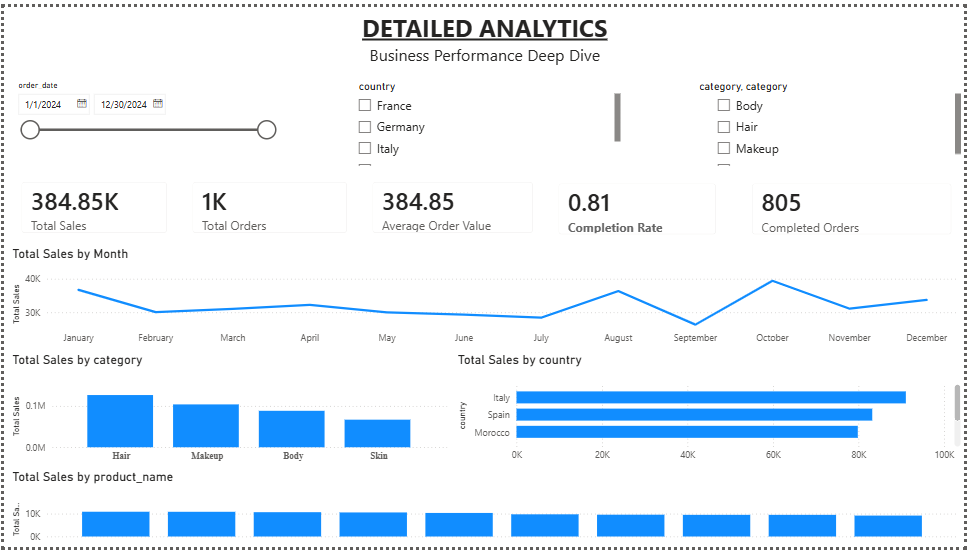

The dashboard page shown, as its layout file describes it:
{"tool":"powerbi","page":{"name":"Dtailed analytics","canvas":[1280,720],"ordinal":1},"visuals":[{"type":"textbox","box":[6,0,1270,92],"z":0},{"type":"slicer","fields":{"Values":["public orders.order_date"]},"box":[6.7,91.7,365,125],"z":1000},{"type":"slicer","fields":{"Values":["public customers.country"]},"box":[460,91.7,366.7,125],"z":2000},{"type":"slicer","fields":{"Values":["public products.category","public products.category"]},"box":[913.3,91.7,366.7,125],"z":3000},{"type":"cardVisual","fields":{"Data":["public order_items.Total Sales"]},"box":[6,216,228,102],"z":4000},{"type":"cardVisual","fields":{"Data":["public order_items.Total Orders"]},"box":[234,216,240,102],"z":5000},{"type":"cardVisual","fields":{"Data":["public order_items.Average Order Value"]},"box":[474,216,248,102],"z":6000},{"type":"cardVisual","fields":{"Data":["public orders.Completion Rate"]},"box":[722,218,244,102],"z":7000},{"type":"lineChart","fields":{"Category":["public orders.order_date.Variation.Date Hierarchy.Month"],"Y":["public order_items.Total Sales"]},"box":[6.7,318.3,1270,141.7],"z":8000},{"type":"clusteredColumnChart","fields":{"Category":["public products.category"],"Y":["public order_items.Total Sales"]},"box":[5,460,590,155],"z":9000},{"type":"clusteredBarChart","fields":{"Category":["public customers.country"],"Y":["public order_items.Total Sales"]},"box":[600,460,680,155],"z":10000},{"type":"clusteredColumnChart","fields":{"Category":["public products.product_name"],"Y":["public order_items.Total Sales"]},"box":[6,616,1270,104],"z":11000},{"type":"cardVisual","fields":{"Data":["public orders.Completed Orders"]},"box":[980,218,300,102],"z":12000}]}

Visuals, with their boxes in screenshot pixels (x1, y1, x2, y2), scaled from the page's 1280x720 canvas onto the 968x554 screenshot:
textbox: locate(5, 0, 965, 71)
slicer - public orders.order_date: locate(5, 71, 281, 167)
slicer - public customers.country: locate(348, 71, 625, 167)
slicer - public products.category x public products.category: locate(691, 71, 967, 167)
cardVisual - public order_items.Total Sales: locate(5, 166, 177, 245)
cardVisual - public order_items.Total Orders: locate(177, 166, 358, 245)
cardVisual - public order_items.Average Order Value: locate(358, 166, 546, 245)
cardVisual - public orders.Completion Rate: locate(546, 168, 731, 246)
lineChart - public orders.order_date.Variation.Date Hierarchy.Month x public order_items.Total Sales: locate(5, 245, 966, 354)
clusteredColumnChart - public products.category x public order_items.Total Sales: locate(4, 354, 450, 473)
clusteredBarChart - public customers.country x public order_items.Total Sales: locate(454, 354, 967, 473)
clusteredColumnChart - public products.product_name x public order_items.Total Sales: locate(5, 474, 965, 553)
cardVisual - public orders.Completed Orders: locate(741, 168, 967, 246)
